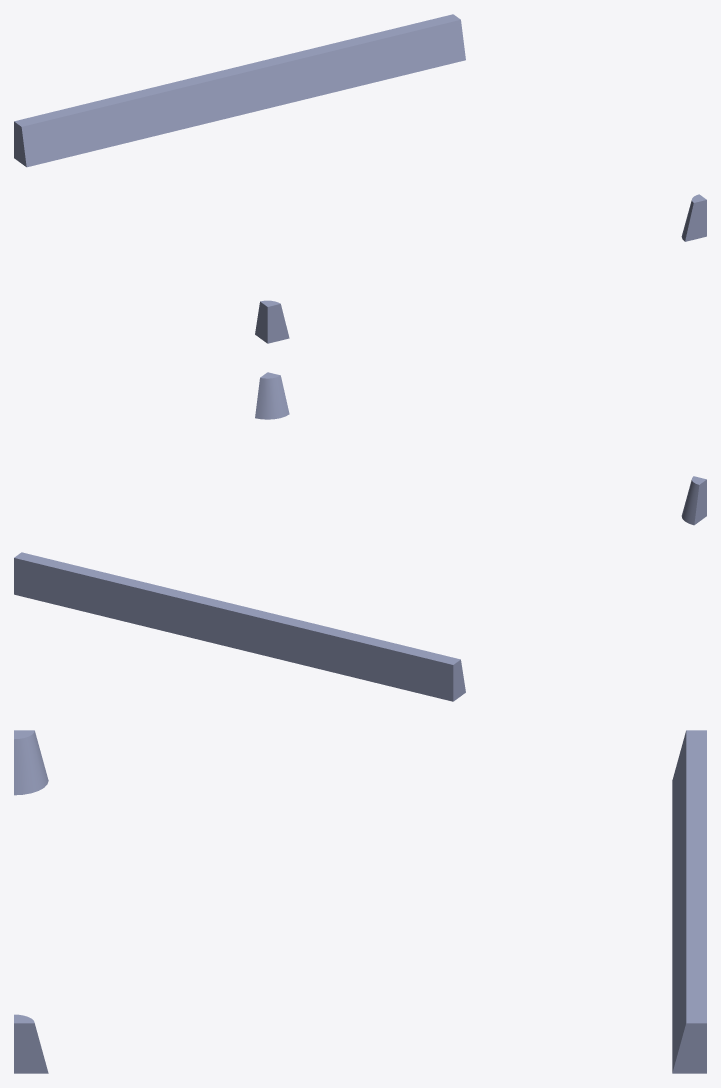
Rendered from road-intersection-barrier.glb.
3 renders of one model, top to bottom at view 1: azimuth 30°, elevation 25°; view 2: azimuth 150°, elevation 25°; view 3: azimuth 270°, elevation 25°, orthographic. The views are drawn at different scales.
Visible parts, largest first — view 1: road-intersection-barrier; view 2: road-intersection-barrier; view 3: road-intersection-barrier.
Part boxes in pixels (left/top/right/bottom): road-intersection-barrier: left=14, top=14, right=706, bottom=343; road-intersection-barrier: left=14, top=372, right=706, bottom=701; road-intersection-barrier: left=14, top=730, right=706, bottom=1073.
Size of the model in its own units: 1 by 0.08 by 1.
